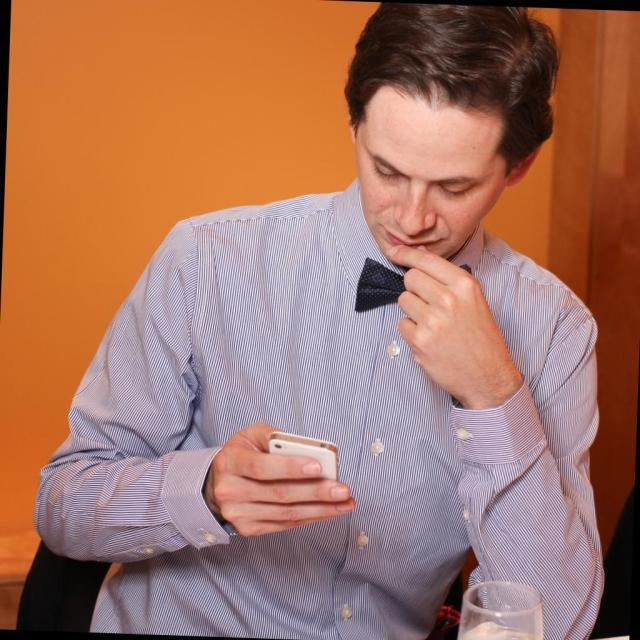phone: (271, 432, 339, 505)
